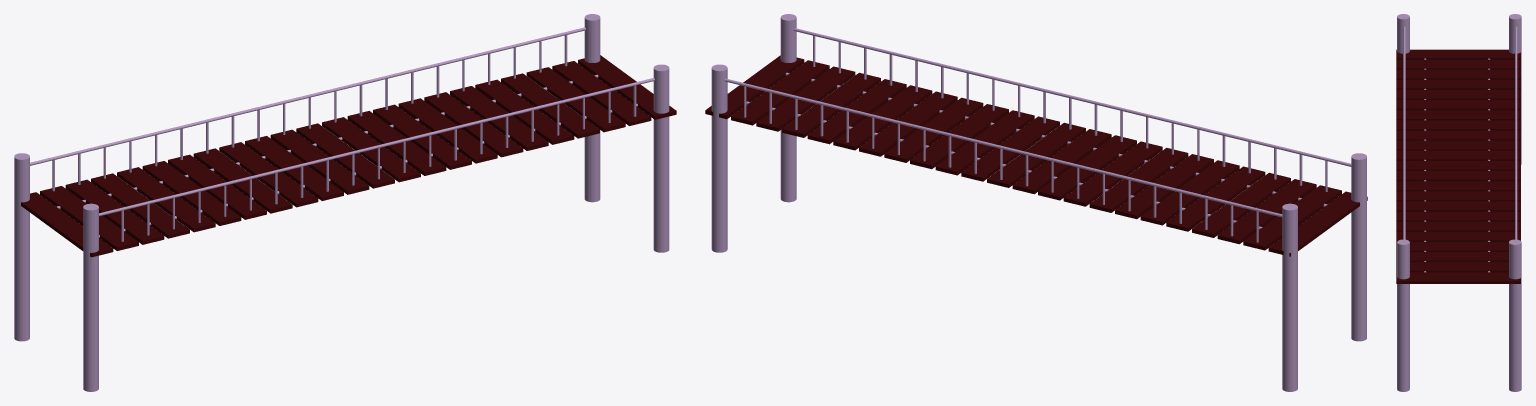
File: bridge.fbx
3 renders of one model, left to right at view 1: azimuth 30°, elevation 25°; view 2: azimuth 150°, elevation 25°; view 3: azimuth 270°, elevation 25°, orthographic. The views are drawn at different scales.
Parts seen in each view (by area): view 1: Cube; view 2: Cube; view 3: Cube.
Boxes of the visible parts, x1,y1,x2,y2 form: Cube: (14,14,676,391); Cube: (705,14,1367,391); Cube: (1396,14,1521,391).
Size of the model in its own units: 344 by 102 by 78.5.
